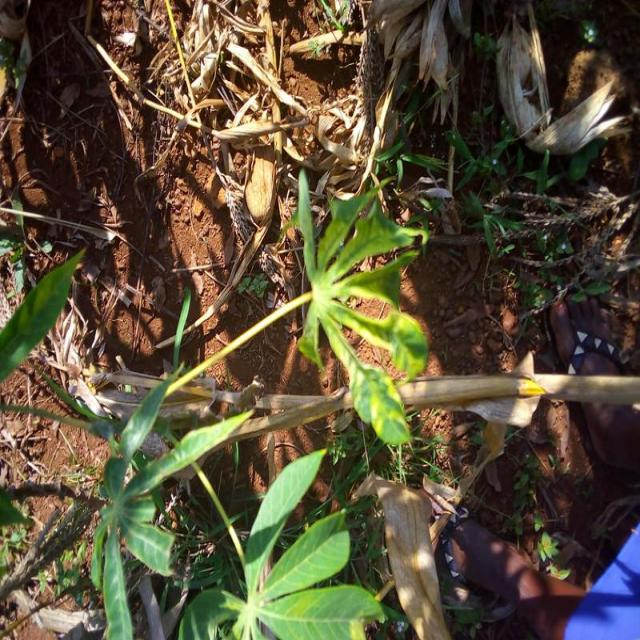cassava leaf: (290, 167, 428, 446), (0, 244, 87, 382)
